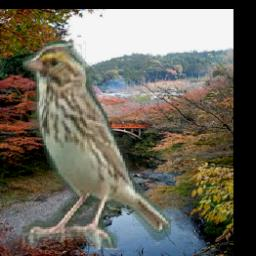Sparrow: (22, 42, 171, 251)
